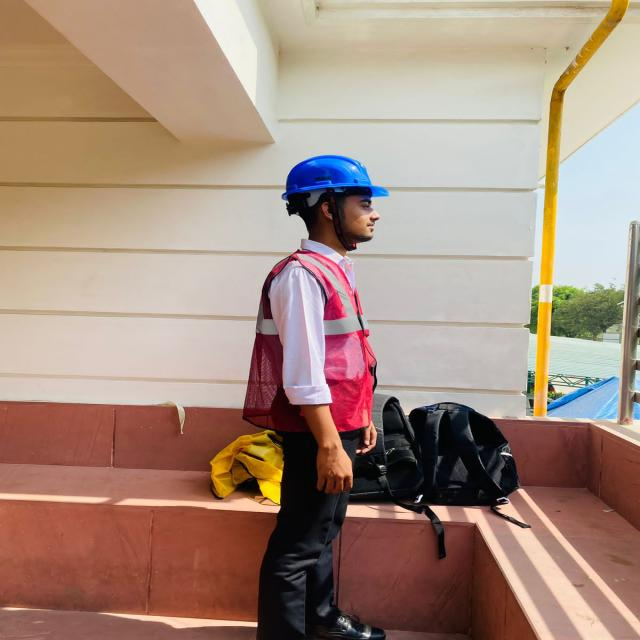safe: (240, 153, 389, 640)
